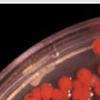red: (70, 84, 93, 100), (48, 86, 71, 100), (57, 74, 73, 92), (76, 66, 92, 82), (88, 36, 100, 57), (70, 78, 90, 90), (39, 81, 53, 98), (31, 86, 43, 100), (88, 72, 99, 87), (23, 92, 42, 100), (92, 80, 100, 98), (95, 62, 100, 78)
